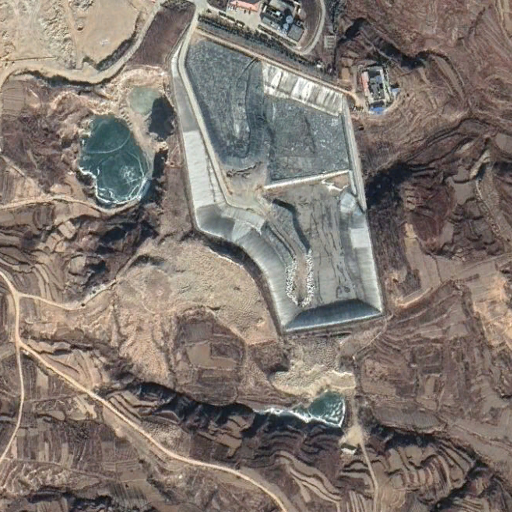lf: (167, 29, 383, 337)
